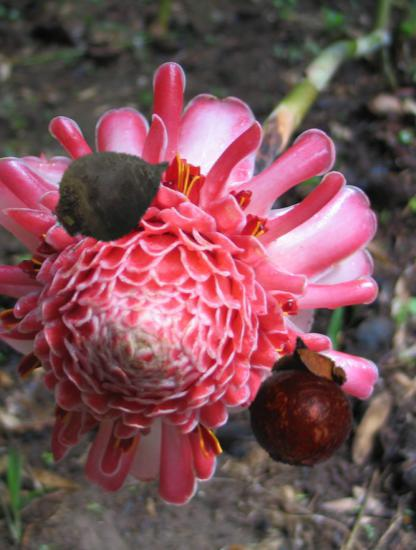Beetroot: (36, 116, 186, 266)
Mangostan: (242, 343, 370, 471)
